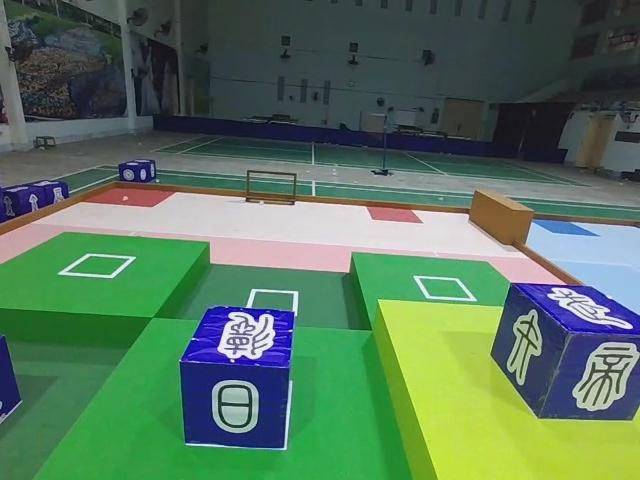R2 Fake Blue: (491, 286, 640, 425), (177, 305, 294, 452), (0, 334, 23, 442)
R2 Real Blue: (0, 181, 66, 226)
